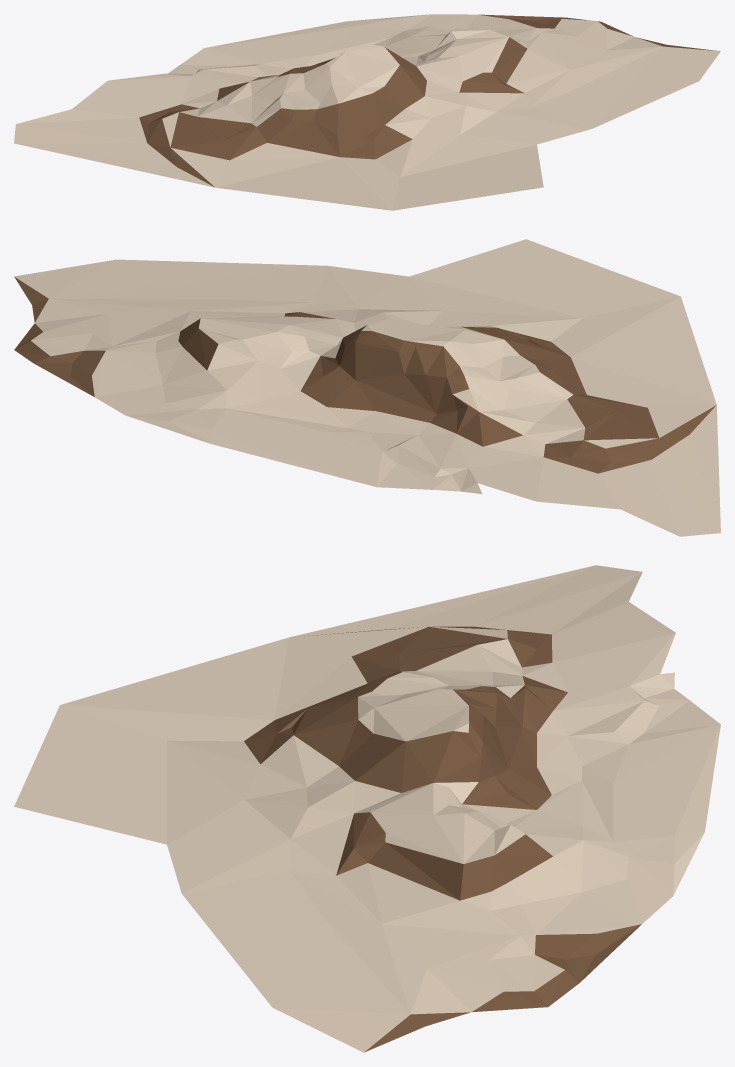
Rendered from Terrain_Sand_Rock_011.fbx.
3 views of the same model, one above another, from view 1: azimuth 30°, elevation 25°; view 2: azimuth 150°, elevation 25°; view 3: azimuth 270°, elevation 25° (orthographic). The views are drawn at different scales.
Visible parts, largest first — view 1: Terrain_Sand_Rock_011; view 2: Terrain_Sand_Rock_011; view 3: Terrain_Sand_Rock_011.
Part boxes in pixels (x1,y1,x2,y2): Terrain_Sand_Rock_011: (14,14,720,210); Terrain_Sand_Rock_011: (14,239,720,536); Terrain_Sand_Rock_011: (14,565,720,1052).
Bounding box in the file's own units: 33.24 × 2.98 × 20.83.
